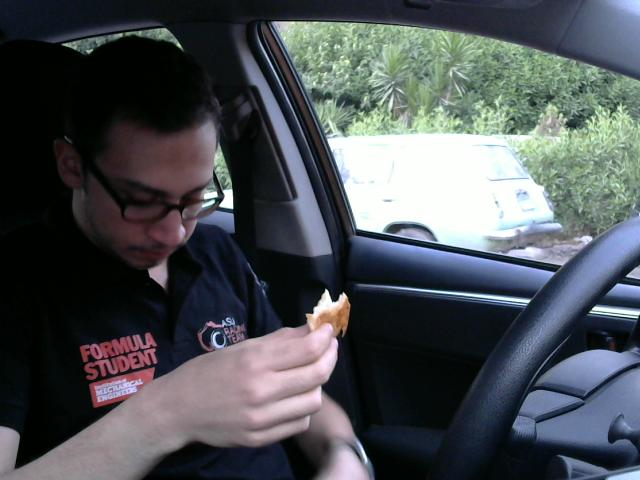Eating: (299, 281, 360, 339)
